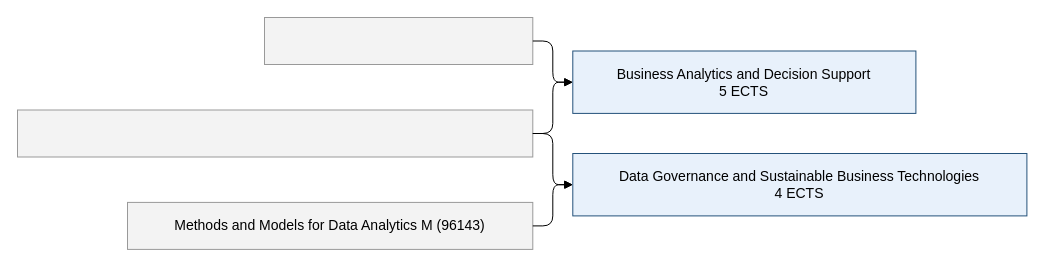
Some shapes in this 1045 by 267 pixel diagram are drawn without their labels. The centre of each missing label's shape, as x and y in pixels:
"Artificial Intelligence and Machine Learning for Business (95965)" goes at point 274,133.
"Operational Analytics (95638)" goes at point 398,40.
